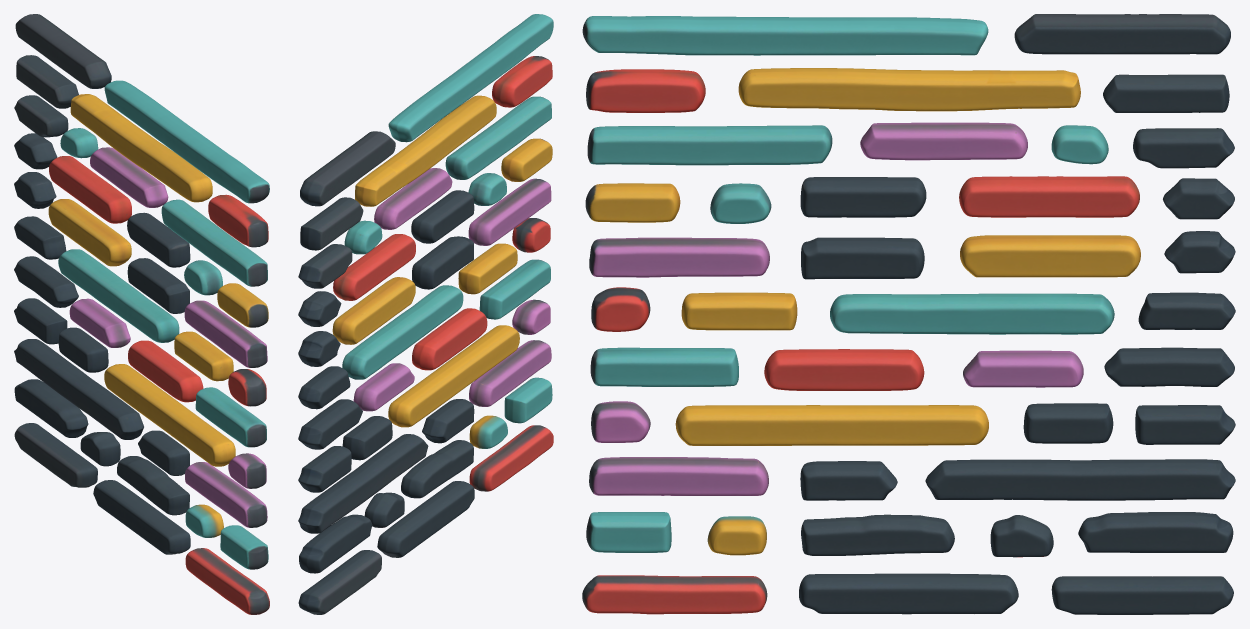
The model's file is prettier.glb.
The picture shows the model from 3 angles, left to right: view 1: azimuth 30°, elevation 25°; view 2: azimuth 150°, elevation 25°; view 3: azimuth 270°, elevation 25°; orthographic projection. The views are drawn at different scales.
Visible parts, largest first — view 1: tripo_node_9e9578cb-f3a2-40da-b0ff-22e7c639ac5d; view 2: tripo_node_9e9578cb-f3a2-40da-b0ff-22e7c639ac5d; view 3: tripo_node_9e9578cb-f3a2-40da-b0ff-22e7c639ac5d.
Boxes of the visible parts, bbox=[...] form: tripo_node_9e9578cb-f3a2-40da-b0ff-22e7c639ac5d: bbox=[14, 14, 269, 614]; tripo_node_9e9578cb-f3a2-40da-b0ff-22e7c639ac5d: bbox=[298, 14, 553, 614]; tripo_node_9e9578cb-f3a2-40da-b0ff-22e7c639ac5d: bbox=[582, 14, 1235, 614].
Size of the model in its own units: 0.053 by 1 by 0.9966.
Materials: 1 (1 with a texture image).
